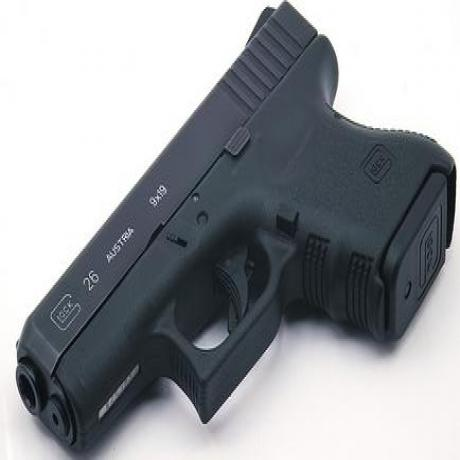weapon: (16, 0, 460, 460)
